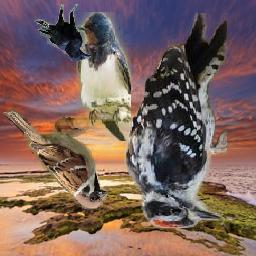Crow: (35, 5, 92, 62)
Sparrow: (3, 109, 107, 210)
Swallow: (77, 13, 132, 142)
Woodpecker: (121, 14, 227, 229)
